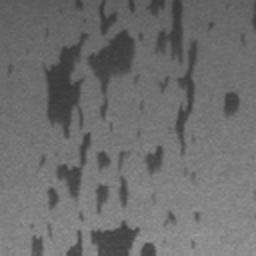Red iron sheet: (38, 0, 198, 214), (65, 221, 155, 256), (237, 0, 256, 47), (223, 92, 241, 115), (31, 234, 44, 256), (161, 211, 178, 225), (5, 61, 12, 76), (42, 27, 49, 41), (195, 211, 201, 221), (207, 22, 214, 29)
